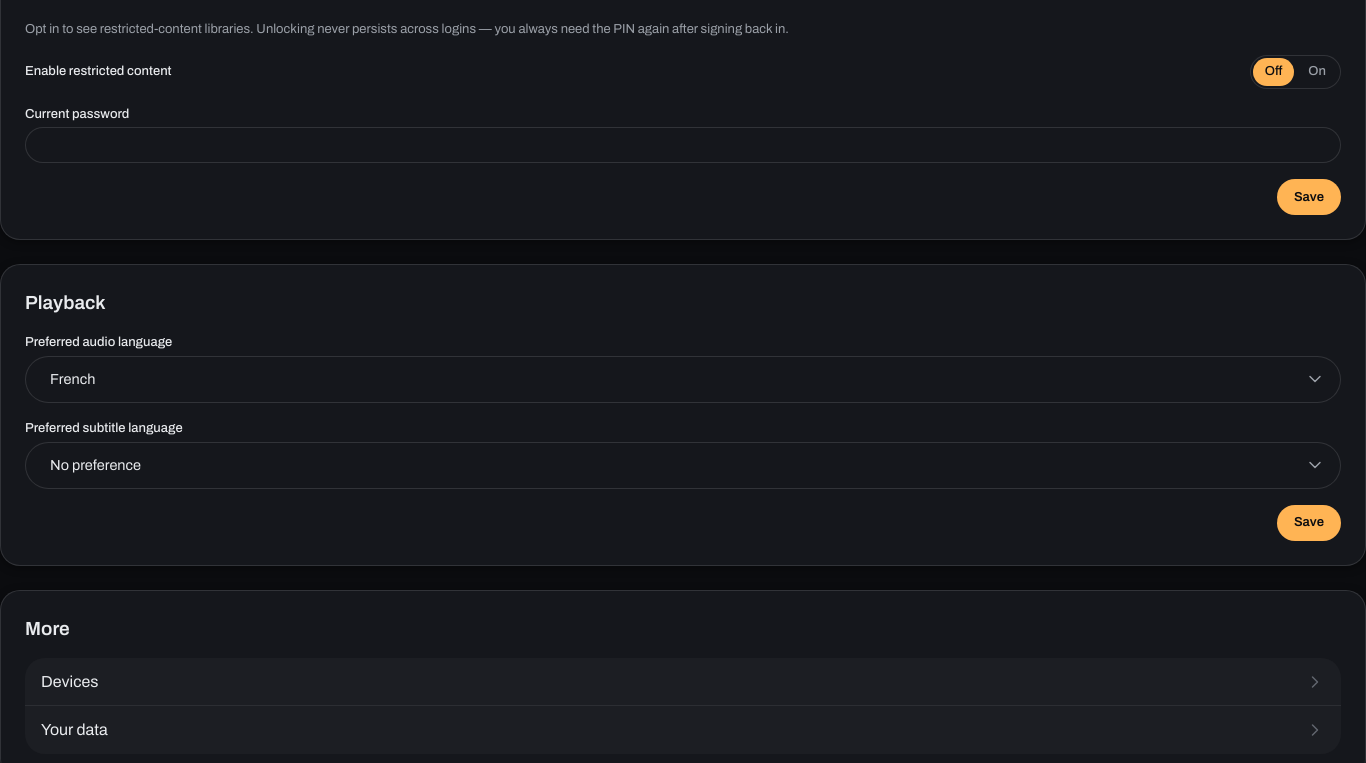
Scenario: ProfileSettings › Playback preferences (language pickers) › a rejected PUT shows the error state and never 'Saved' — the lying-save bug this restores from
(page scrolled)
Select "French" in the dropdown labelled "Preferred audio language" at (683, 379), box [25, 356, 1341, 403]
Click the 2nd button "Save" at (1309, 523), box [1277, 505, 1341, 541]
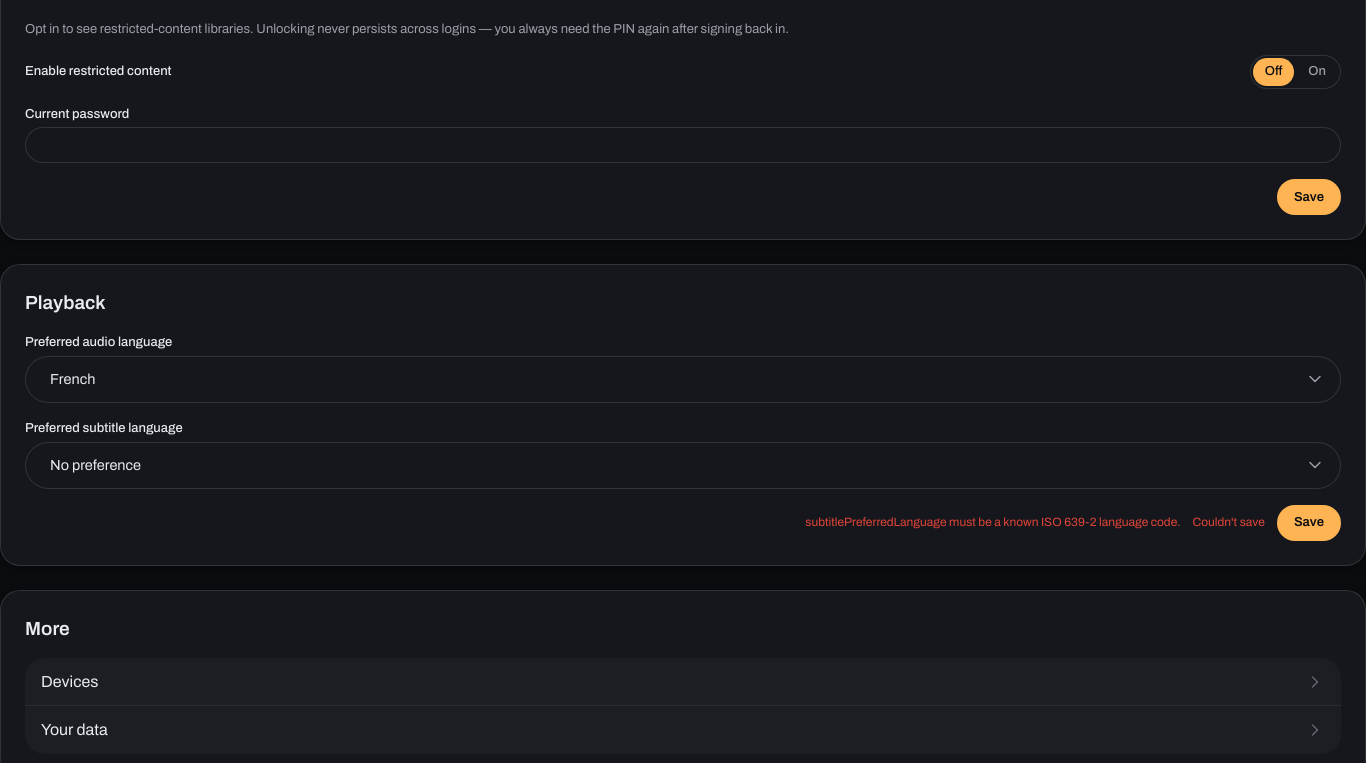
Check: the form that starts with "Playback" shows "must be a known ISO 639-2 language code", box [25, 290, 1341, 541]
